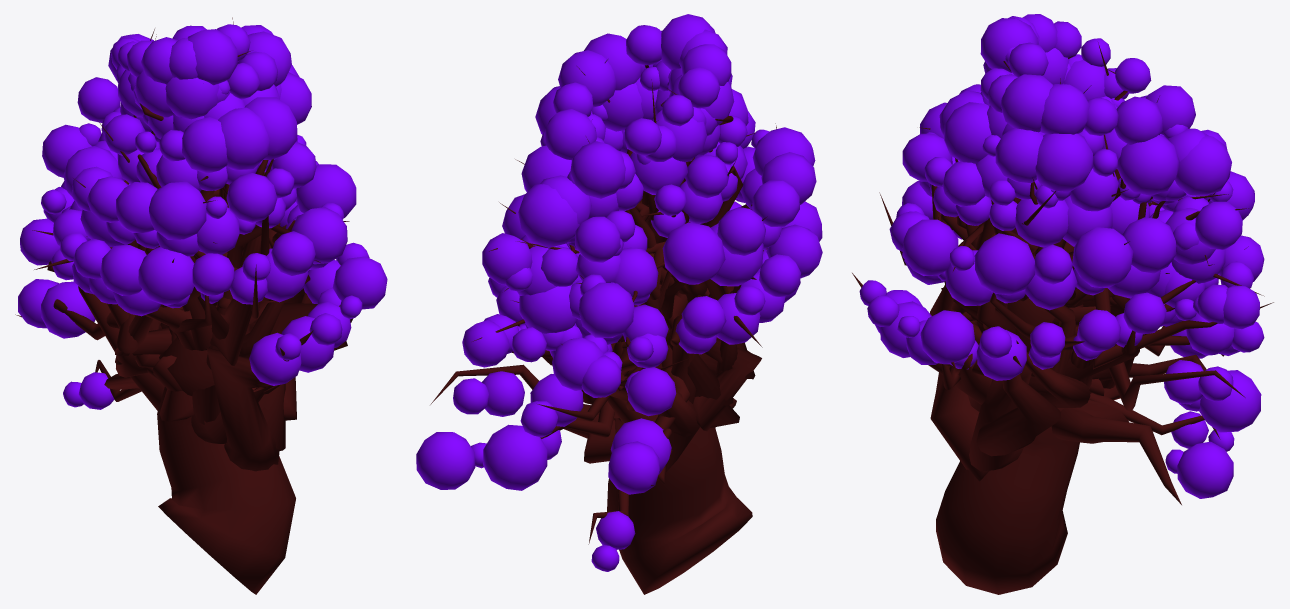
The model's file is AaliyahTree.fbx.
The picture shows the model from 3 angles, left to right: view 1: azimuth 30°, elevation 25°; view 2: azimuth 150°, elevation 25°; view 3: azimuth 270°, elevation 25°; orthographic projection. The views are drawn at different scales.
Parts seen in each view (by area): view 1: merge1; view 2: merge1; view 3: merge1.
Part boxes in pixels (bbox=[...]): merge1: bbox=[15, 17, 387, 594]; merge1: bbox=[416, 14, 822, 594]; merge1: bbox=[852, 14, 1273, 594].
Size of the model in its own units: 14.9 by 27.84 by 19.22.
